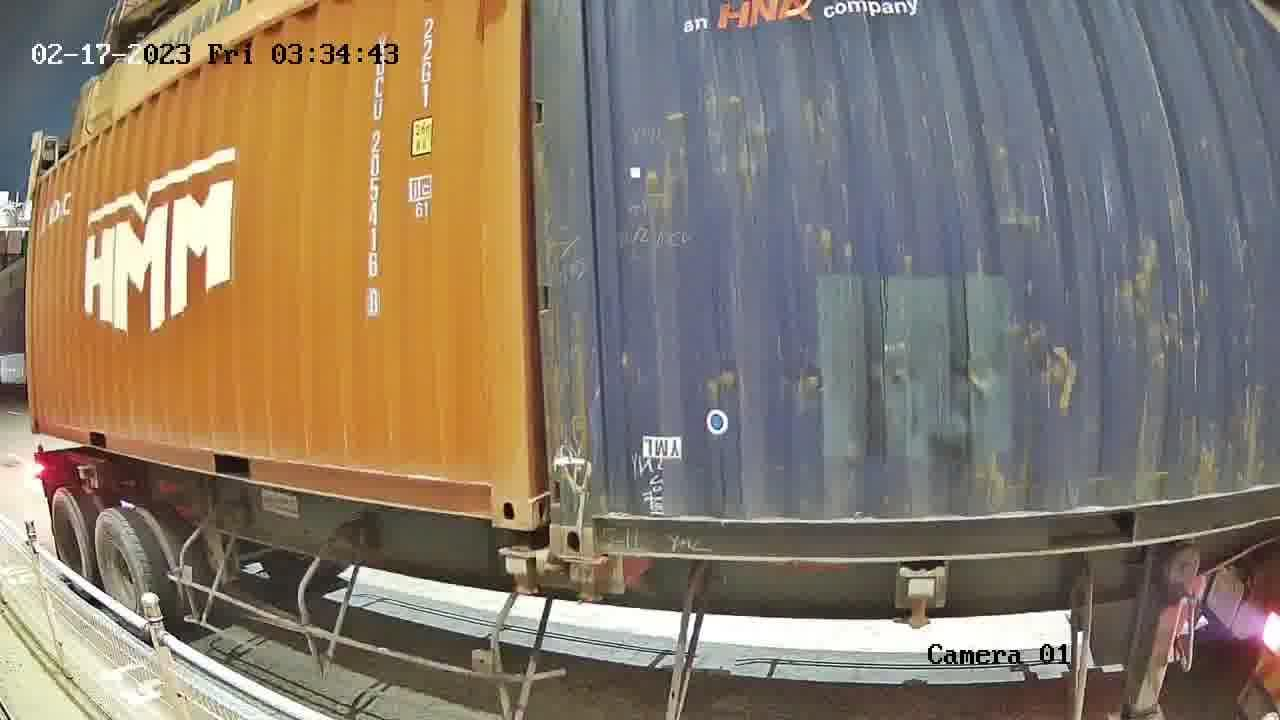Cone: (559, 560, 607, 607), (500, 545, 540, 595)
Hole_L: (548, 483, 641, 558)
Hole_R: (450, 455, 530, 527)
Tire: (95, 511, 152, 632), (52, 491, 93, 593)
